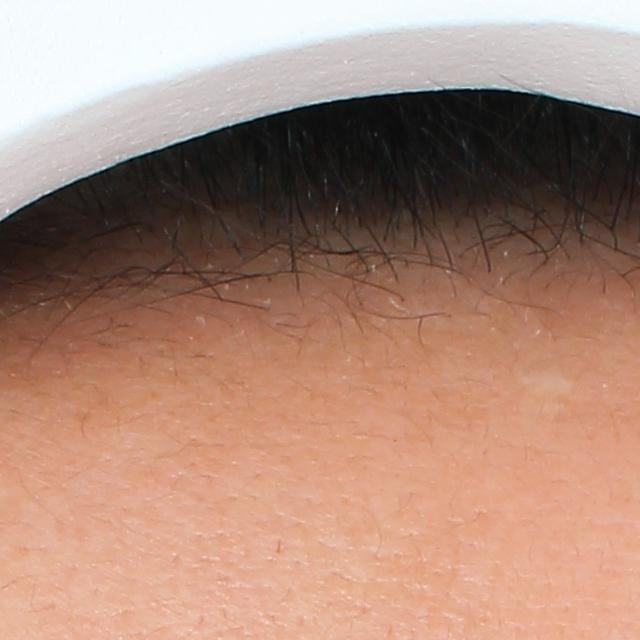other: (509, 363, 580, 400)
